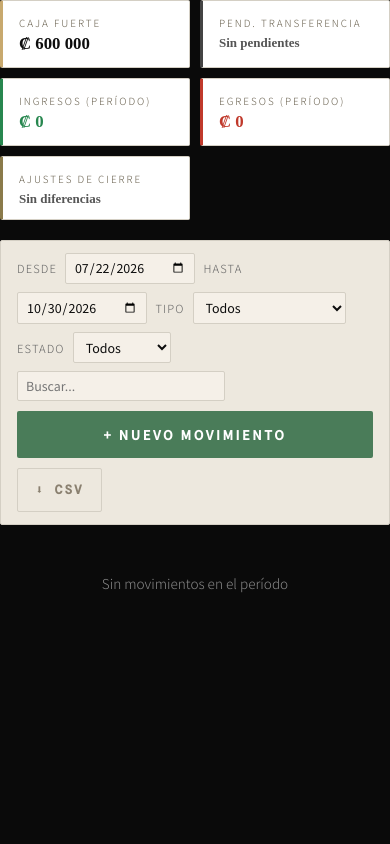
Test: CashMovimientos — el filtro por defecto arranca en la fecha de corte › EL HISTÓRICO NO SE TOCA: ampliando "Desde" hacia atrás vuelve a verse completo
In the 1st date field: (130, 268) [65, 253, 196, 284], type "2026-01-01"
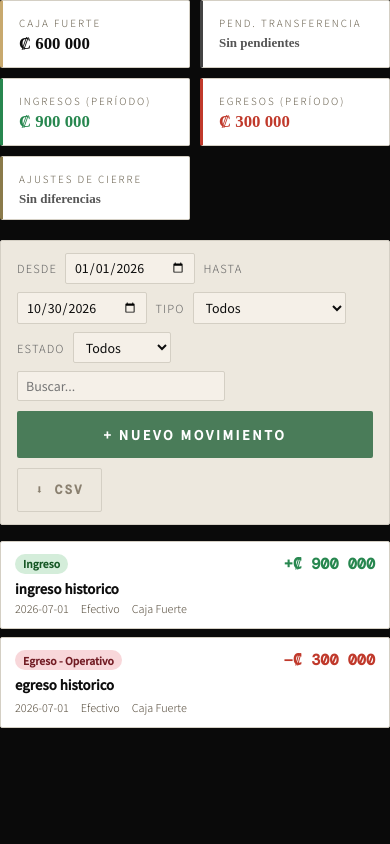
Check: the text "ingreso historico" is shown, box [15, 579, 119, 598]
